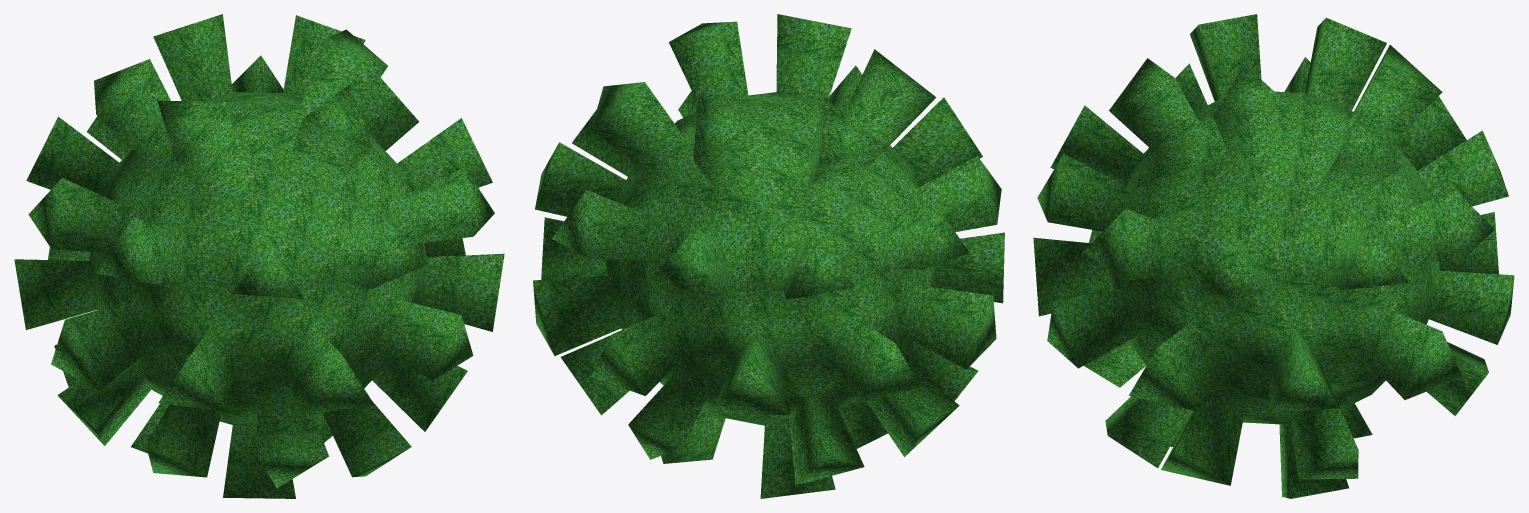
File: covid.dae
3 renders of one model, left to right at view 1: azimuth 30°, elevation 25°; view 2: azimuth 150°, elevation 25°; view 3: azimuth 270°, elevation 25°, orthographic.
Visible parts, largest first — view 1: Icosphere; view 2: Icosphere; view 3: Icosphere.
Boxes of the visible parts, x1=… form: Icosphere: x1=14, y1=14, x2=504, y2=498; Icosphere: x1=533, y1=14, x2=1004, y2=498; Icosphere: x1=1033, y1=14, x2=1514, y2=498.
Bounding box in the file's own units: 2.68 × 2.61 × 2.65.
